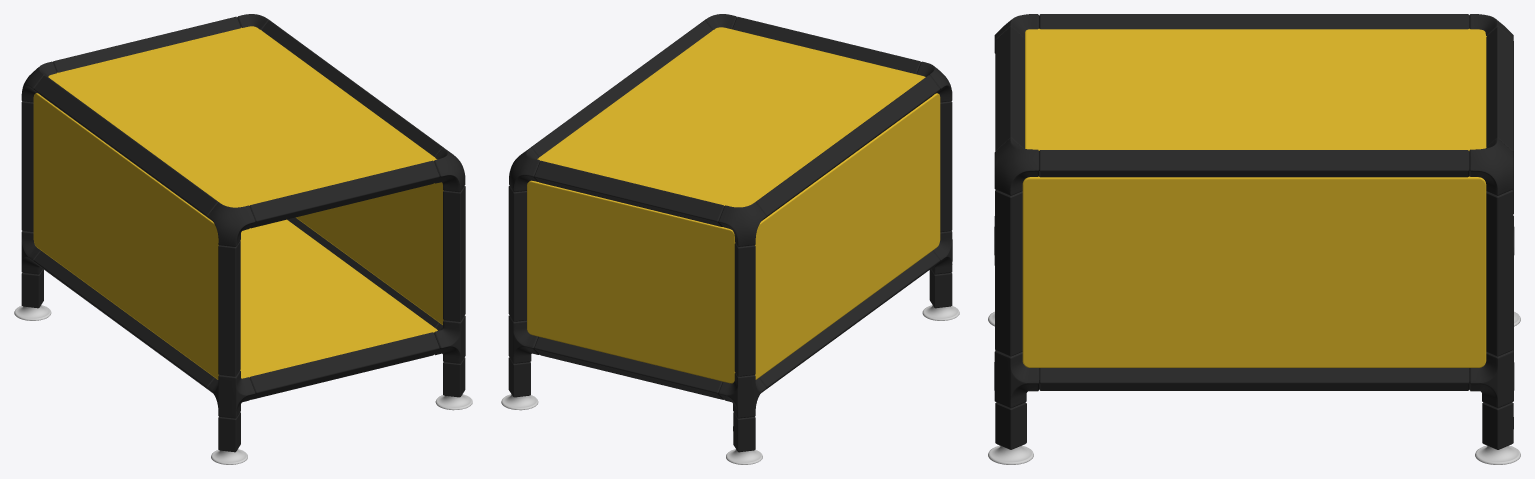
3 views of the same model, side by side, from view 1: azimuth 30°, elevation 25°; view 2: azimuth 150°, elevation 25°; view 3: azimuth 270°, elevation 25° (orthographic). The views are drawn at different scales.
Visible parts, largest first — view 1: 229x374x154; view 2: 229x374x154; view 3: 229x374x154.
Part boxes in pixels (box(x1,y1,x2,y2)): 229x374x154: box(14, 14, 472, 464); 229x374x154: box(501, 14, 959, 464); 229x374x154: box(988, 14, 1520, 464).
Size of the model in its own units: 0.3188 by 0.2932 by 0.4632.
